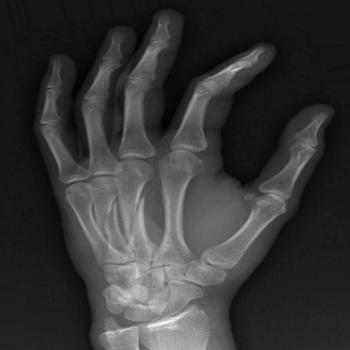Fracture: (126, 190, 154, 241), (98, 197, 123, 239)
